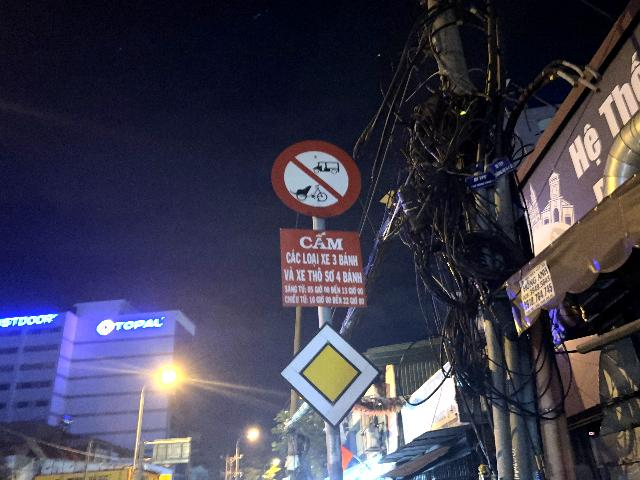bat-dau-duong-uu-tien: (279, 320, 381, 430)
cam-xe-3-banh-xe-tho-so-4-banh: (271, 140, 362, 218)
